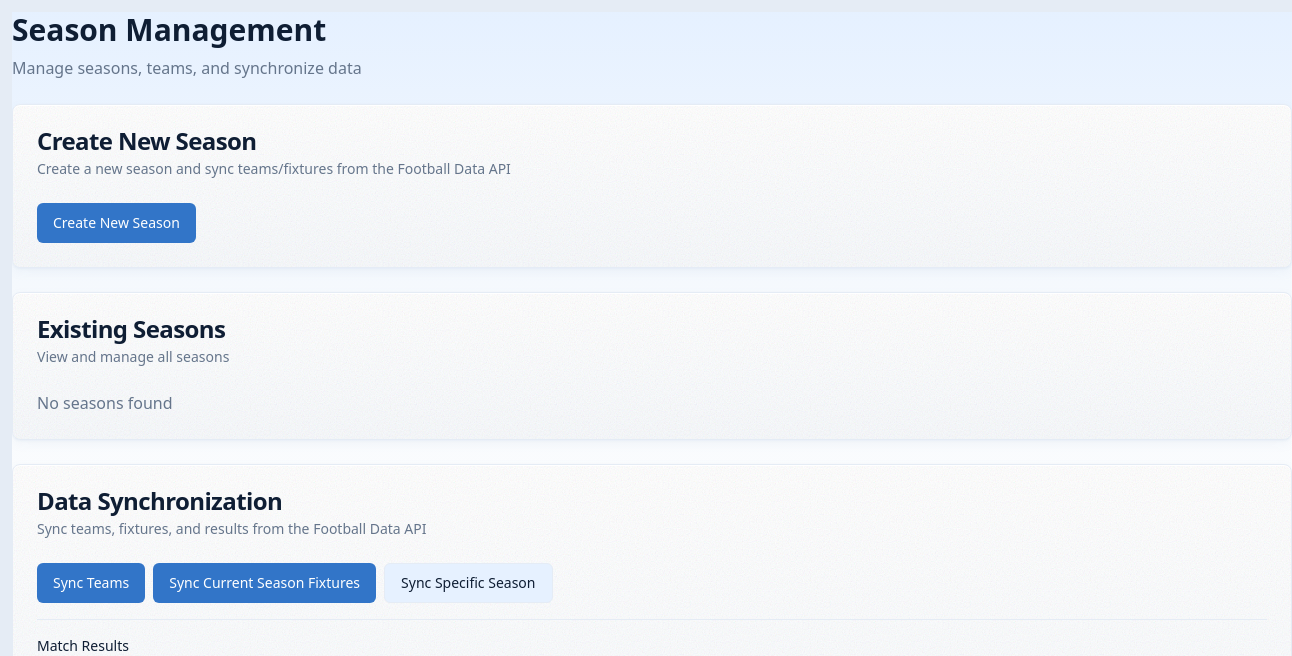
SeasonManagementPage - Create New Season › Season Creation Flow › should show loading state while creating season
Click the button "Create New Season" at coordinates (116, 223), box [37,203,196,243]
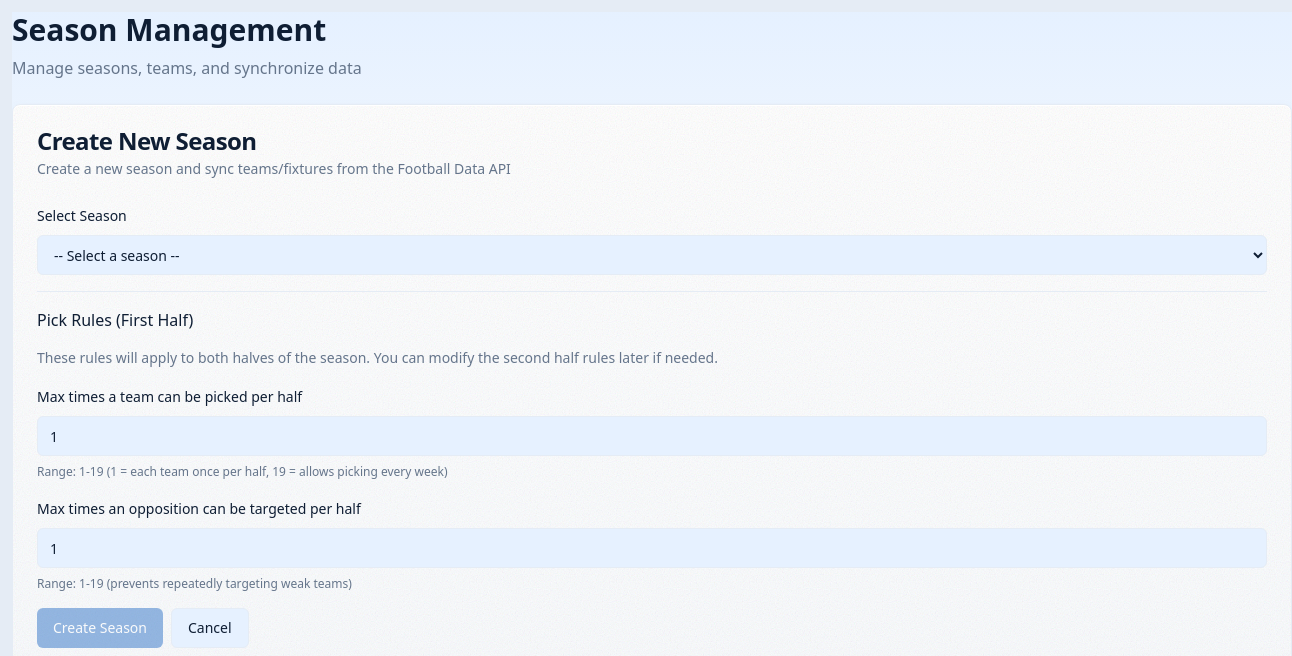
Check: the dropdown labelled "Select Season" is shown
Select "2026-2027" in the dropdown labelled "Select Season" at coordinates (652, 255), box [37,235,1267,275]
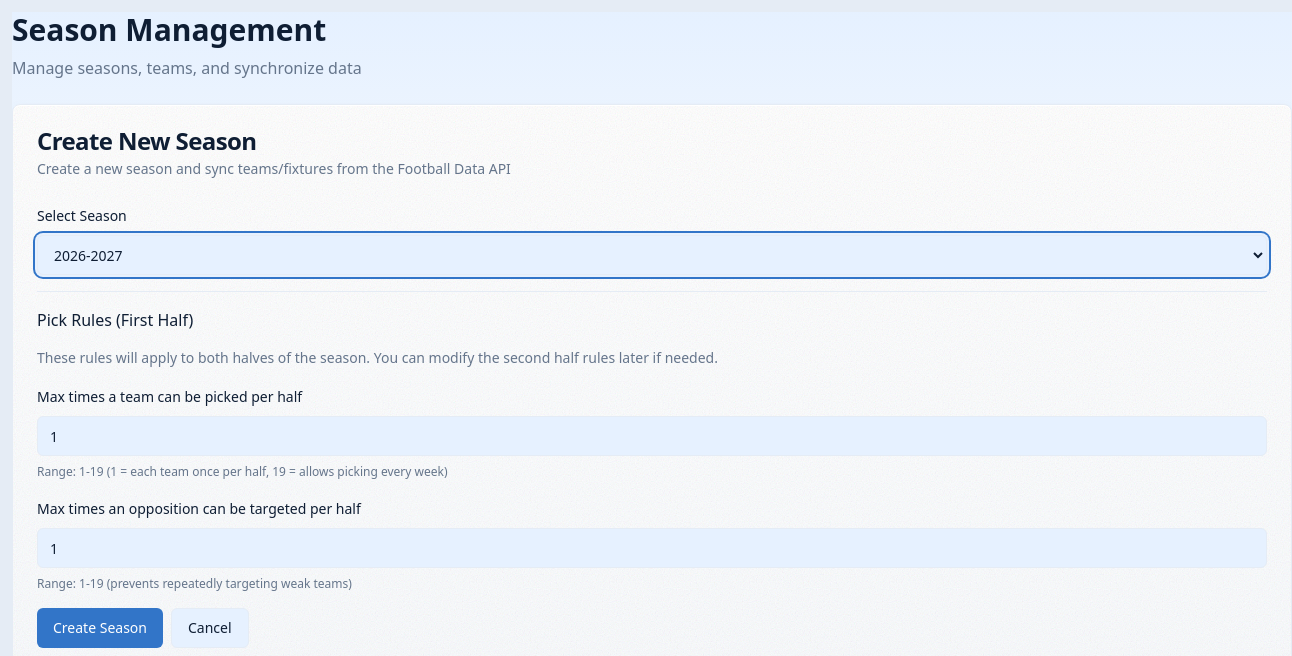
Click the button "Create Season" at coordinates (100, 628), box [37,608,163,648]
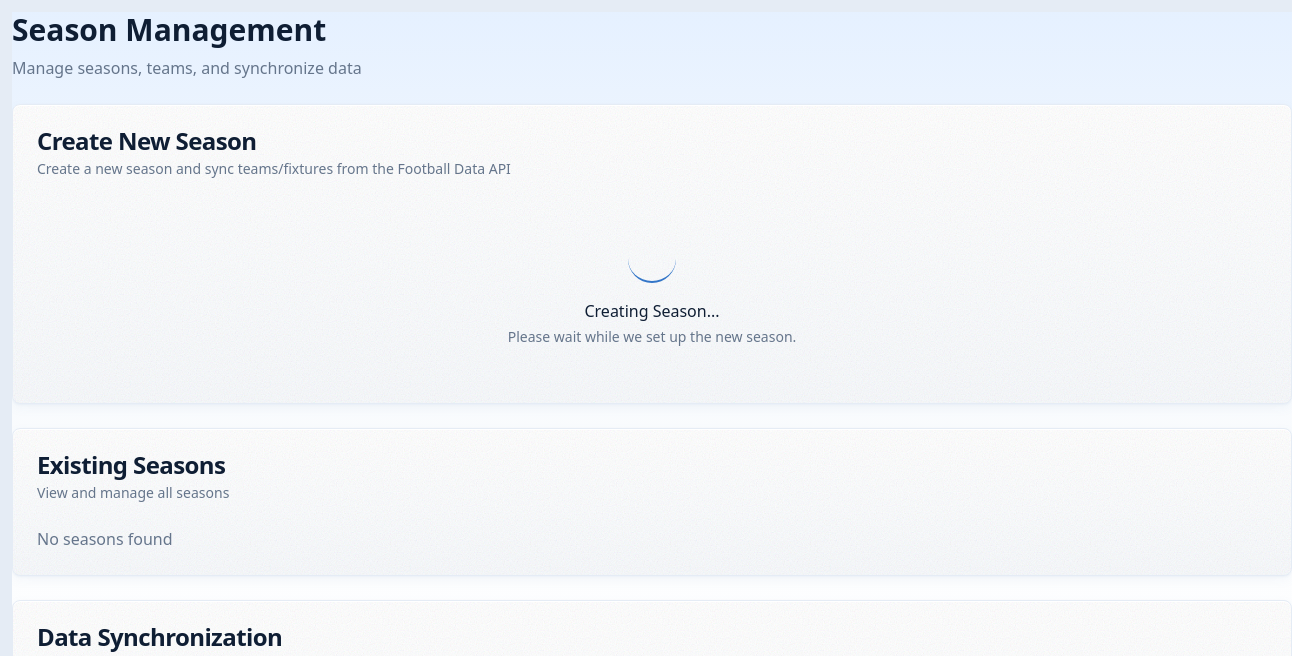
Check: the text "Creating Season..." is shown, box [584,300,720,322]
Check: the text "Please wait while we set up the new season." is shown, box [508,327,796,347]
